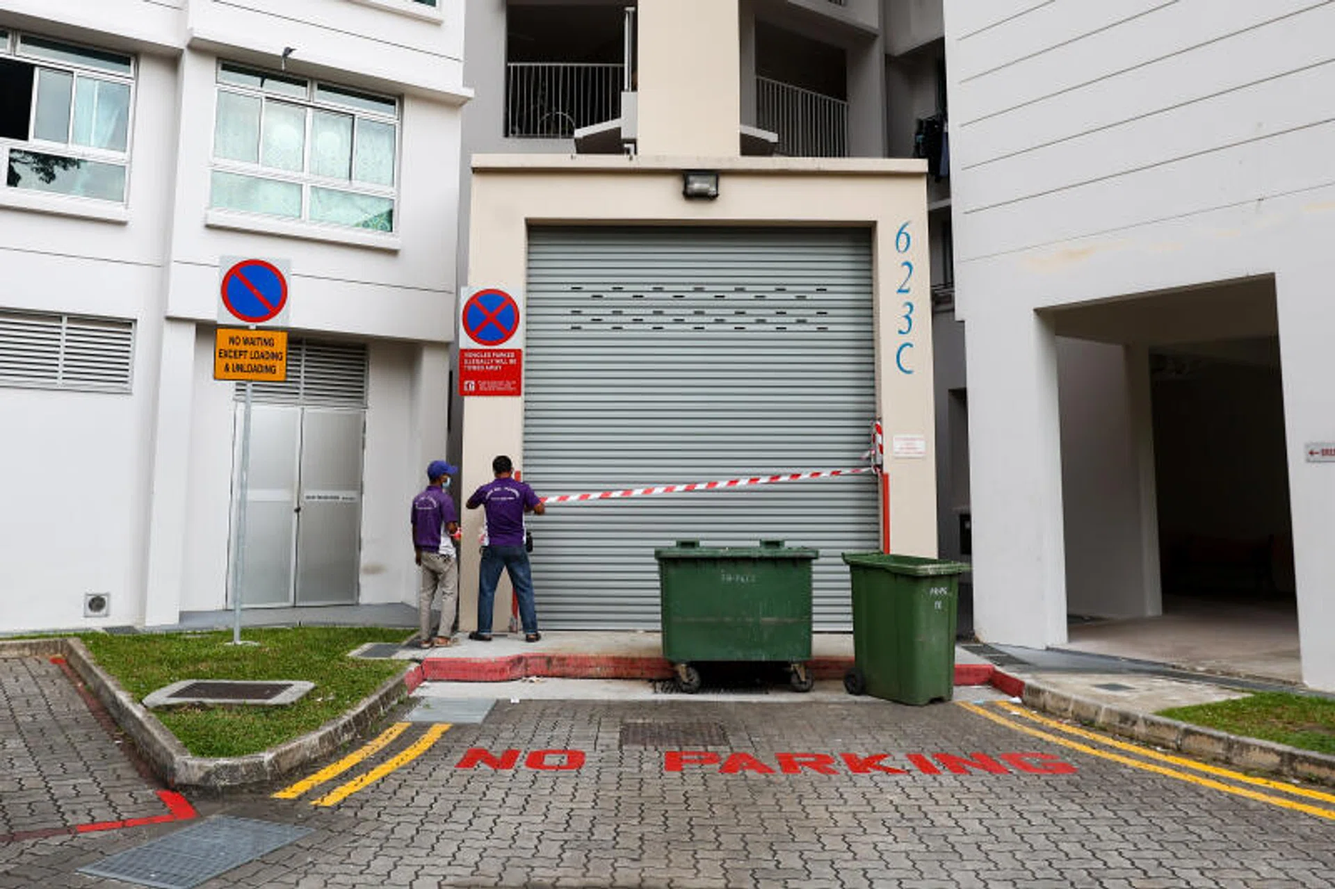bin_empty: (654, 539, 818, 692), (843, 553, 971, 704)
